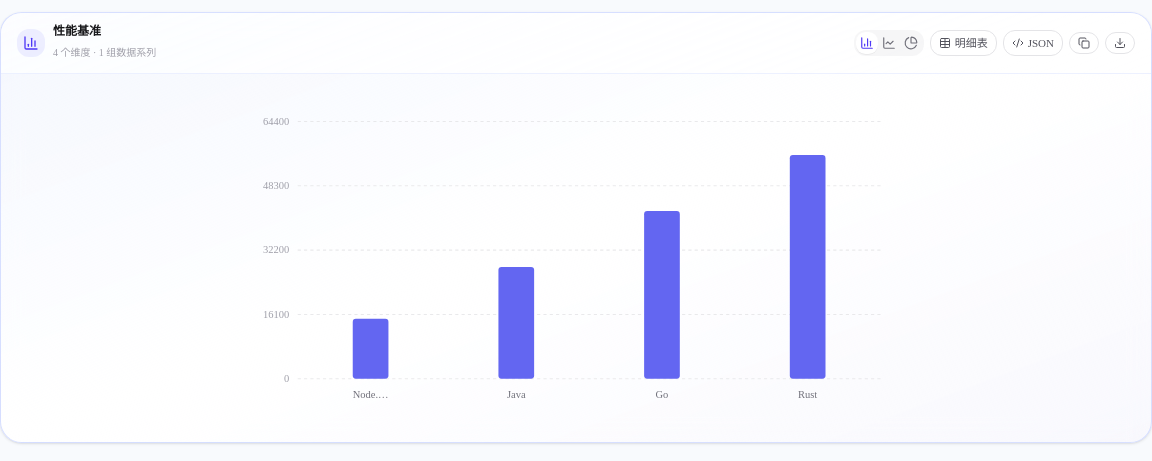
Test case: Artifact Components Suite › ChartArtifactViewer renders and switches to table view
The image size is (1152, 461).
Step 1. Click the button "明细表" → (963, 43), box [930,30,997,56]
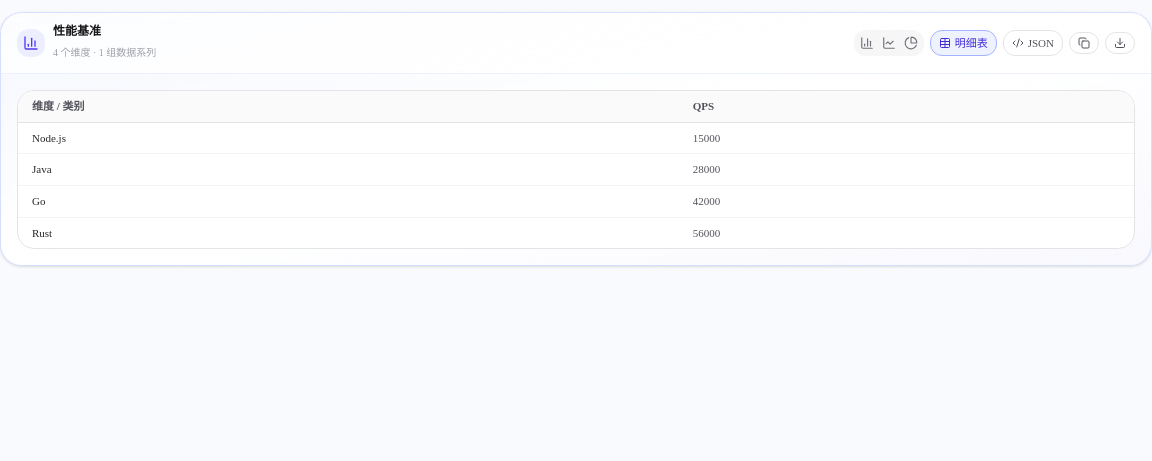
Check: the text "Rust" is shown, box [18,217,679,248]
Check: the text "维度 / 类别" is shown, box [18,91,679,122]
Check: the text "56000" is shown, box [679,217,1134,248]
